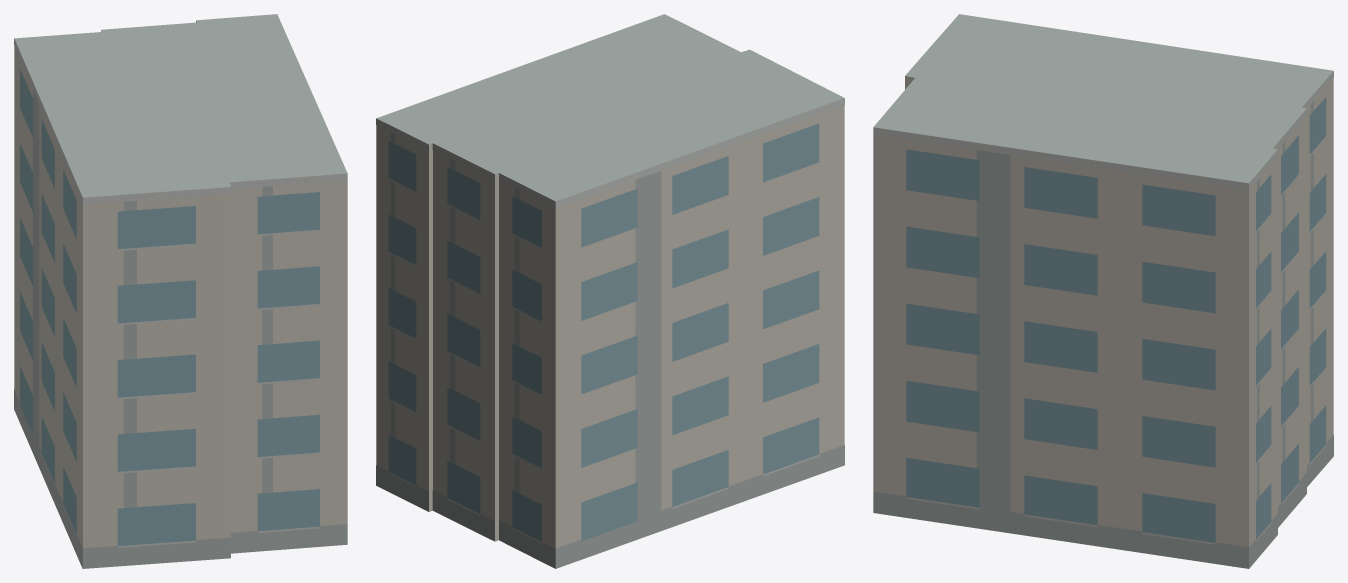
Rendered from survey-upis-32892541.glb.
3 views of the same model, side by side, from view 1: azimuth 30°, elevation 25°; view 2: azimuth 150°, elevation 25°; view 3: azimuth 270°, elevation 25° (orthographic). The views are drawn at different scales.
Parts seen in each view (by area): view 1: survey-upis-32892541.tmp; view 2: survey-upis-32892541.tmp; view 3: survey-upis-32892541.tmp.
Boxes of the visible parts, box(x1,y1,x2,y2) form: survey-upis-32892541.tmp: box(14, 14, 347, 568); survey-upis-32892541.tmp: box(376, 14, 844, 568); survey-upis-32892541.tmp: box(873, 14, 1333, 568).
Bounding box in the file's own units: 12.16 × 12.9 × 13.98.
